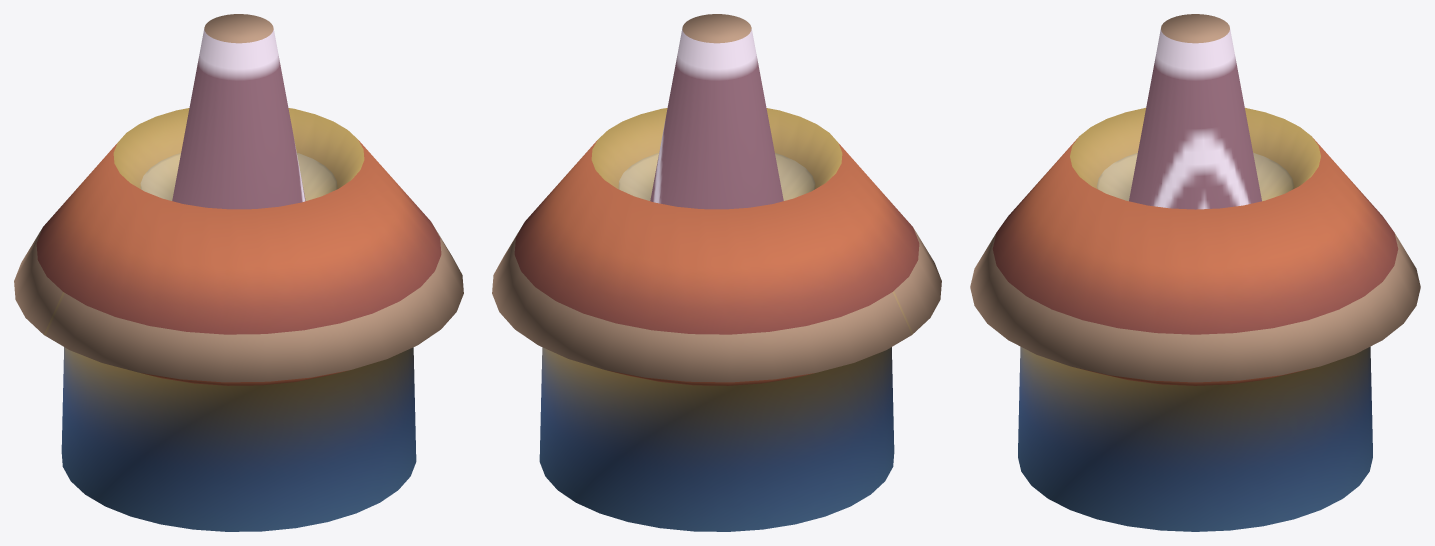
File: DomeTrack1.fbx
3 views of the same model, side by side, from view 1: azimuth 30°, elevation 25°; view 2: azimuth 150°, elevation 25°; view 3: azimuth 270°, elevation 25° (orthographic).
Visible parts, largest first — view 1: Dome; view 2: Dome; view 3: Dome.
Part boxes in pixels (bbox=[...]): Dome: bbox=[14, 14, 463, 531]; Dome: bbox=[492, 14, 941, 531]; Dome: bbox=[970, 14, 1420, 531].
Size of the model in its own units: 343 by 359 by 343.
